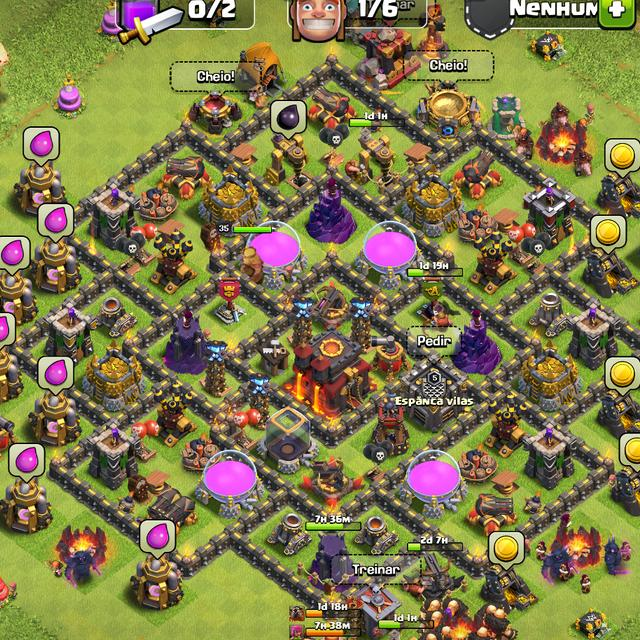Elixir: (22, 126, 62, 168), (138, 519, 176, 561), (37, 202, 75, 243), (8, 443, 45, 485), (37, 356, 74, 396), (0, 235, 31, 277), (0, 312, 16, 353)
ElixirNegro: (270, 99, 308, 141)
coin: (488, 530, 526, 572), (603, 137, 640, 179), (590, 216, 628, 254), (604, 357, 640, 397), (619, 432, 640, 474)
